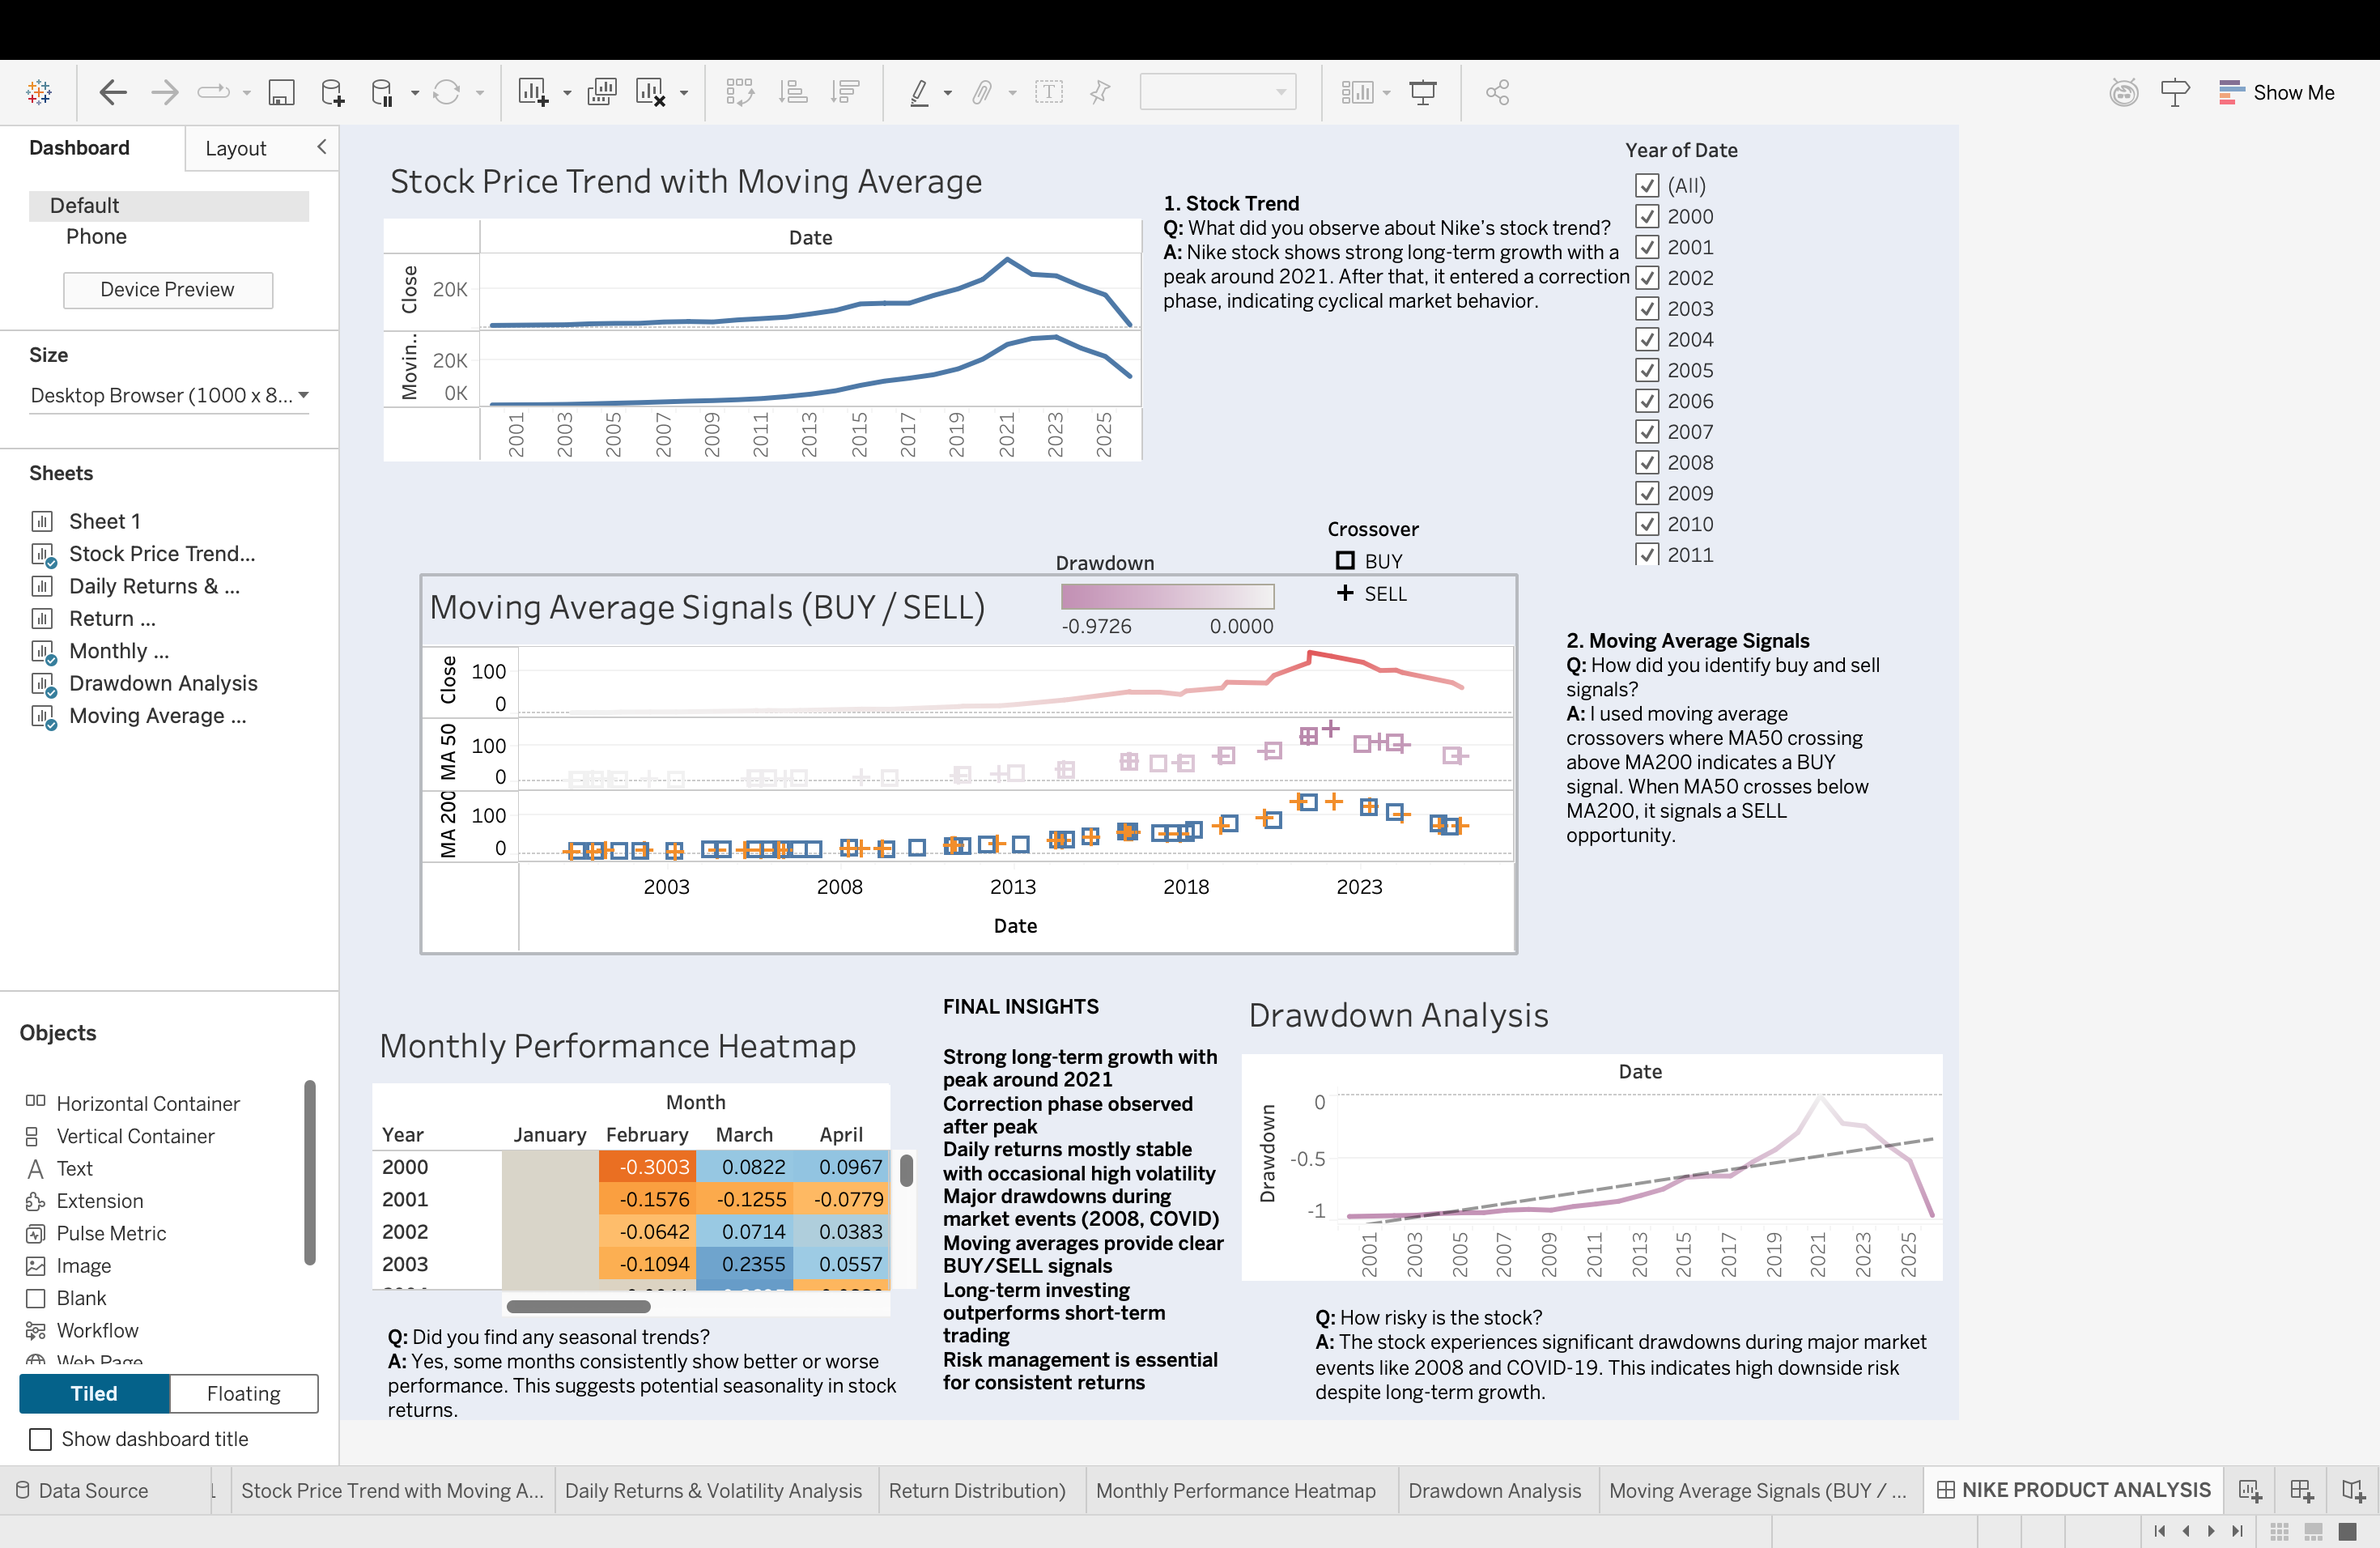

Layout of this report page (visuals, bound fields, positions):
{"tool":"tableau","page":{"name":"NIKE PRODUCT ANALYSIS","canvas":[1000,800],"ordinal":0},"visuals":[{"type":"filter","title":"Stock Price Trend with Moving Average","param":"[federated.1te1j6p0yq30ki121s6w817kuw53].[yr:Date:ok]","box":[794,7,101,265]},{"type":"worksheet","title":"Stock Price Trend with Moving Average","mark":"Automatic","rows":["Close"],"cols":["Date"],"box":[27,16,469,192]},{"type":"text","box":[506,29,294,104]},{"type":"legend","title":"Moving Average Signals (BUY / SELL)","param":"[federated.1te1j6p0yq30ki121s6w817kuw53].[usr:Calculation_5896943423741970:nk:1]","box":[610,241,140,58]},{"type":"legend","title":"Drawdown Analysis","param":"[federated.1te1j6p0yq30ki121s6w817kuw53].[usr:Calculation_5896943418540042:qk]","box":[442,262,140,76]},{"type":"worksheet","title":"Moving Average Signals (BUY / SELL)","mark":"Automatic","rows":["Close","Calculation_5896943422087182","Calculation_5896943422177295"],"cols":["Date"],"box":[51,279,675,232]},{"type":"text","box":[755,307,201,152]},{"type":"worksheet","title":"Drawdown Analysis","mark":"Automatic","rows":["Calculation_5896943418540042"],"cols":["Date"],"box":[557,531,433,183]},{"type":"worksheet","title":"Monthly Performance Heatmap","mark":"Square","rows":["Year"],"cols":["Month"],"box":[20,550,337,187]},{"type":"text","box":[600,725,400,74]}]}

Visuals, with their boxes on the page's 1000x800 design canvas (x1, y1, x2, y2). These are canvas units, not pixel positions in the 2380x1548 screenshot, which may show the page scaled, cropped or inside an application window:
"Stock Price Trend with Moving Average" filter: Rect(794, 7, 895, 272)
"Stock Price Trend with Moving Average" worksheet: Rect(27, 16, 496, 208)
text: Rect(506, 29, 800, 133)
"Moving Average Signals (BUY / SELL)" legend: Rect(610, 241, 750, 299)
"Drawdown Analysis" legend: Rect(442, 262, 582, 338)
"Moving Average Signals (BUY / SELL)" worksheet: Rect(51, 279, 726, 511)
text: Rect(755, 307, 956, 459)
"Drawdown Analysis" worksheet: Rect(557, 531, 990, 714)
"Monthly Performance Heatmap" worksheet (Square marks): Rect(20, 550, 357, 737)
text: Rect(600, 725, 1000, 799)
